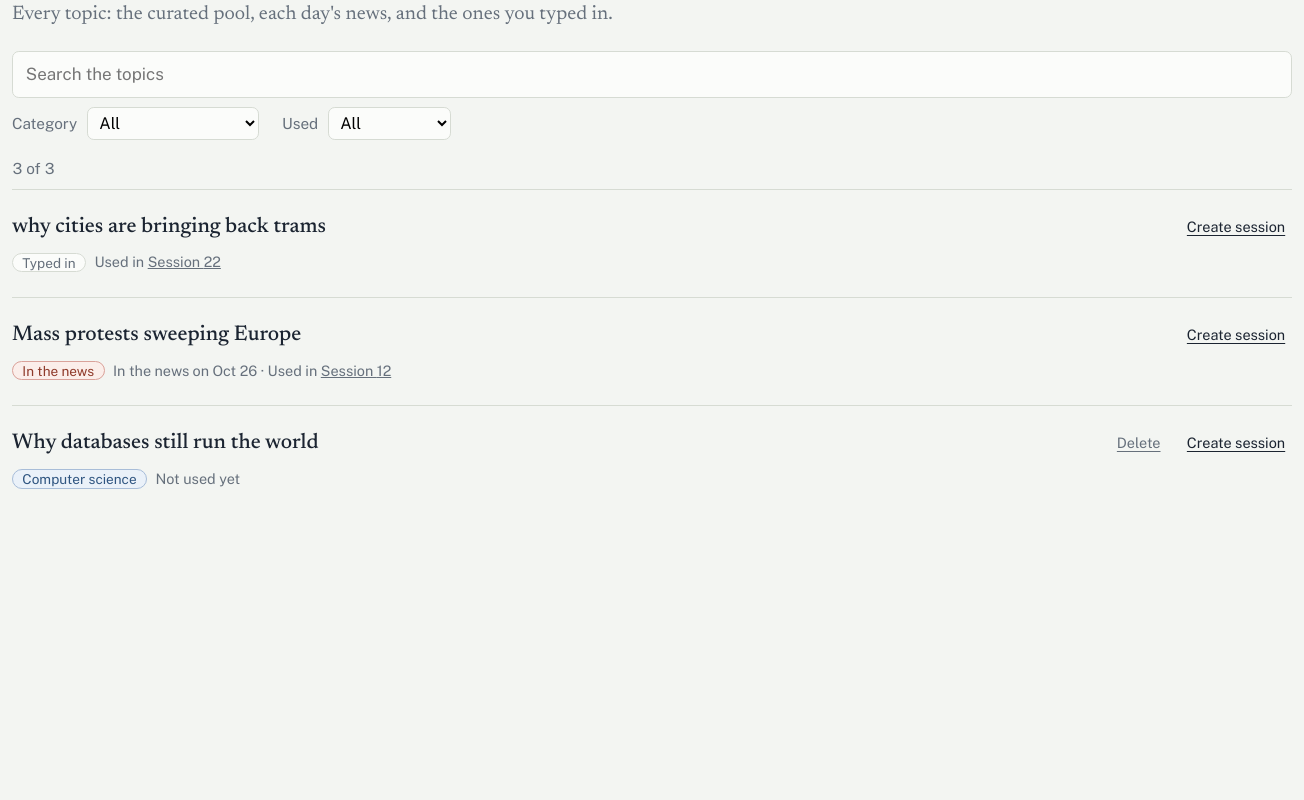
it: says so when a session cannot be started, and the buttons stay free
Click the button "Create session" in the row of "Why databases still run the world": click(1236, 443) [1180,427,1292,459]
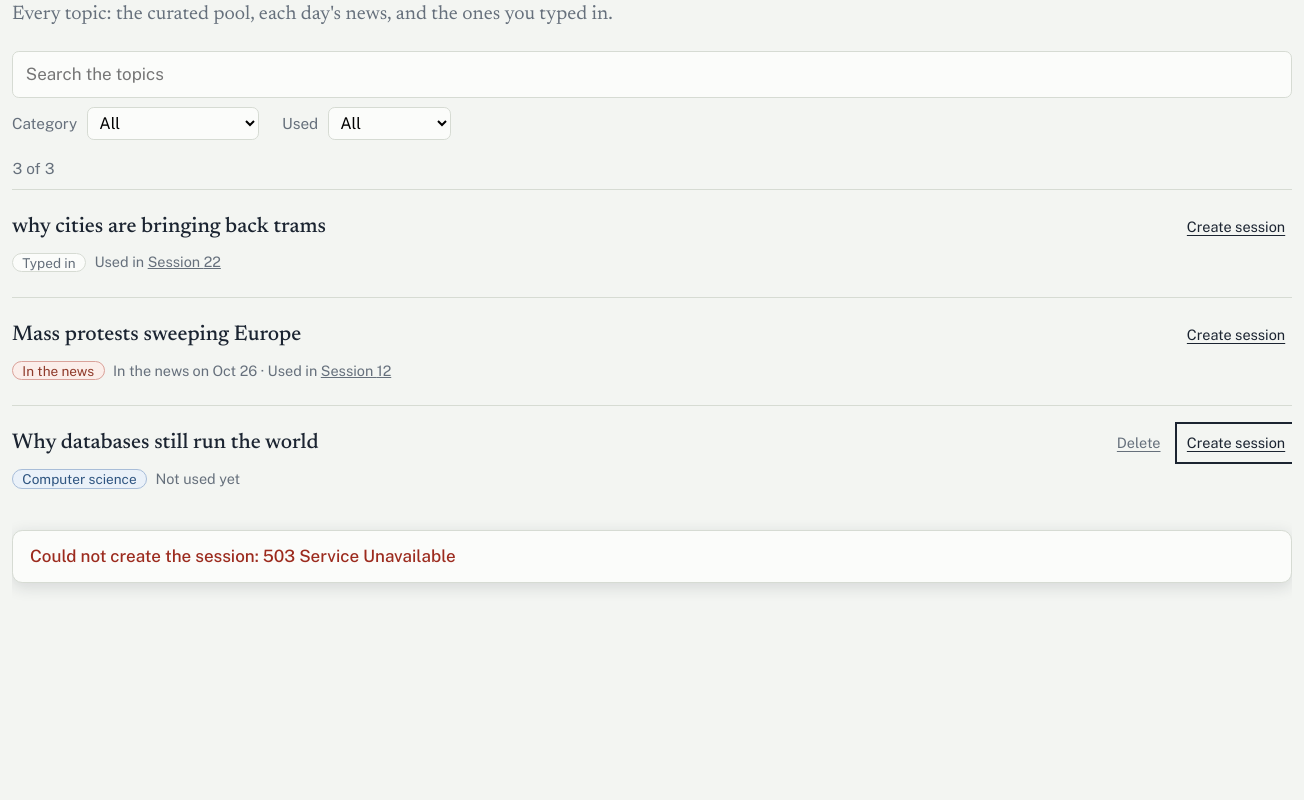
Now the text "Could not create the session: 503 Service Unavailable" is shown, box [30,546,456,566]
